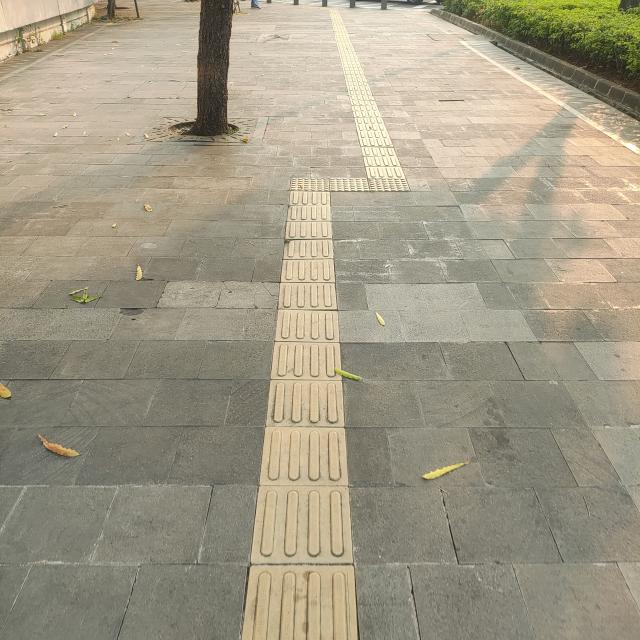lurus: (251, 207, 347, 640), (326, 15, 406, 160)
